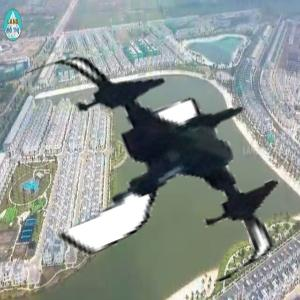drone: (25, 29, 296, 300)
